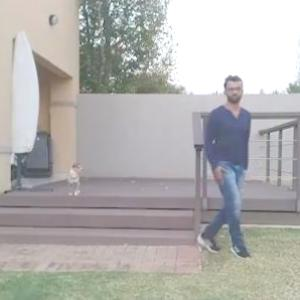follow: (193, 67, 255, 271)
